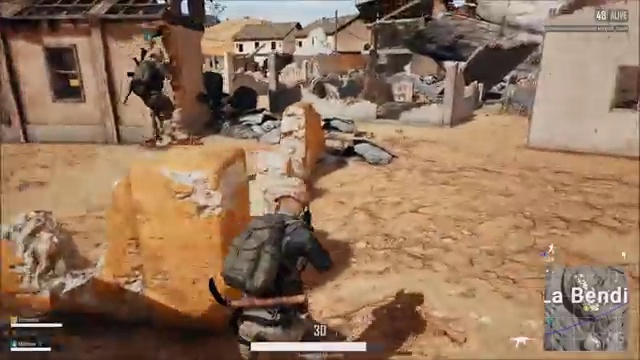Player: (207, 174, 346, 313), (107, 41, 208, 143)
